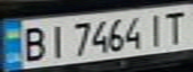4: (124, 12, 148, 51), (90, 16, 112, 55)
6: (106, 16, 127, 53)
7: (69, 19, 93, 57)
B: (15, 22, 51, 63)
I: (42, 21, 69, 60), (142, 10, 169, 47)
T: (160, 8, 190, 45)
